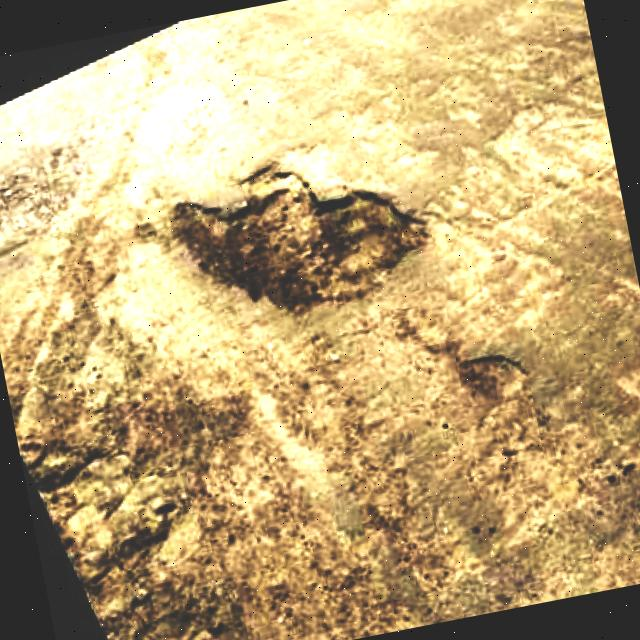pothole: (150, 138, 446, 328), (0, 121, 107, 264), (468, 344, 547, 412)
